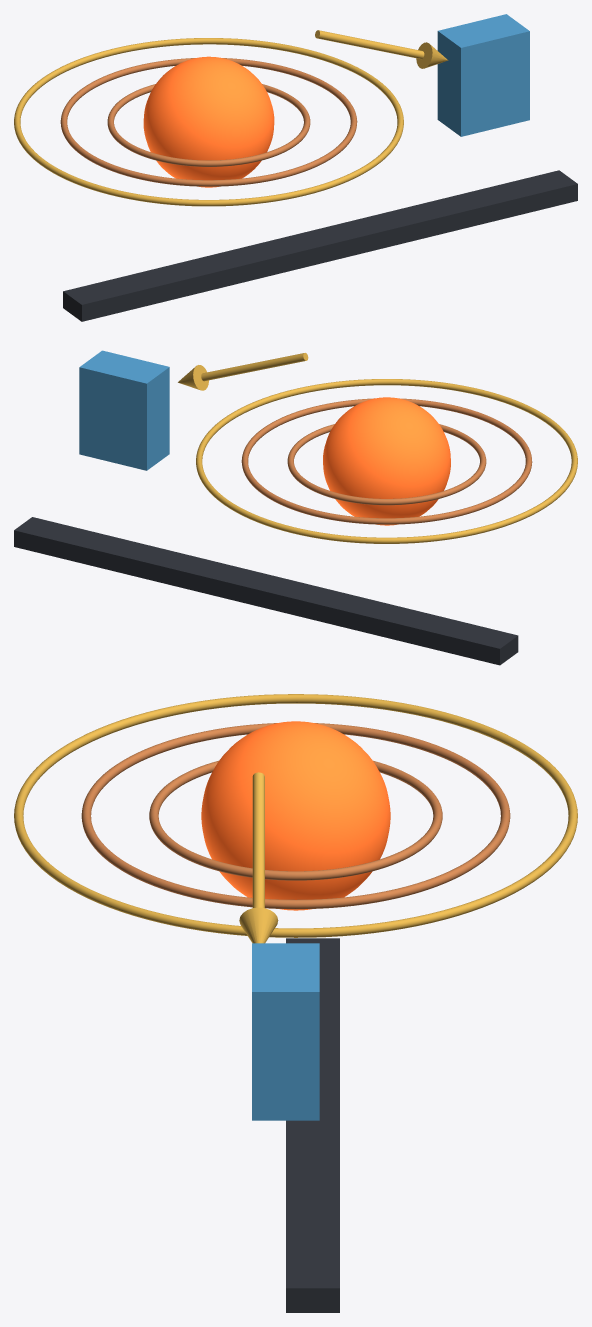
The model's file is physics-p1-radiation.glb.
The picture shows the model from 3 angles, top to bottom: view 1: azimuth 30°, elevation 25°; view 2: azimuth 150°, elevation 25°; view 3: azimuth 270°, elevation 25°; orthographic projection. The views are drawn at different scales.
Visible parts, largest first — view 1: thermal-bench-reference-base, glowing-heat-source-radiates, distant-object-warmed-without-touch, radiation-energy-wave-2, radiation-energy-wave-1, radiation-energy-wave-0, radiation-travels-through-space-shaft, radiation-travels-through-space-head; view 2: thermal-bench-reference-base, glowing-heat-source-radiates, distant-object-warmed-without-touch, radiation-energy-wave-2, radiation-energy-wave-1, radiation-energy-wave-0, radiation-travels-through-space-shaft, radiation-travels-through-space-head; view 3: glowing-heat-source-radiates, thermal-bench-reference-base, radiation-energy-wave-2, distant-object-warmed-without-touch, radiation-energy-wave-1, radiation-energy-wave-0, radiation-travels-through-space-shaft, radiation-travels-through-space-head.
Boxes of the visible parts, left/top/right/bottom form: thermal-bench-reference-base: left=63, top=170, right=577, bottom=321; glowing-heat-source-radiates: left=143, top=56, right=274, bottom=187; distant-object-warmed-without-touch: left=437, top=14, right=529, bottom=136; radiation-energy-wave-2: left=14, top=38, right=403, bottom=206; radiation-energy-wave-1: left=60, top=58, right=357, bottom=186; radiation-energy-wave-0: left=107, top=84, right=310, bottom=166; radiation-travels-through-space-shaft: left=315, top=30, right=424, bottom=59; radiation-travels-through-space-head: left=416, top=42, right=448, bottom=68; thermal-bench-reference-base: left=14, top=517, right=518, bottom=665; glowing-heat-source-radiates: left=323, top=397, right=450, bottom=525; distant-object-warmed-without-touch: left=79, top=350, right=169, bottom=470; radiation-energy-wave-2: left=196, top=379, right=577, bottom=543; radiation-energy-wave-1: left=241, top=398, right=532, bottom=524; radiation-energy-wave-0: left=287, top=424, right=486, bottom=505; radiation-travels-through-space-shaft: left=201, top=353, right=308, bottom=381; radiation-travels-through-space-head: left=178, top=365, right=208, bottom=390; glowing-heat-source-radiates: left=201, top=721, right=390, bottom=910; thermal-bench-reference-base: left=286, top=938, right=339, bottom=1312; radiation-energy-wave-2: left=14, top=694, right=577, bottom=937; distant-object-warmed-without-touch: left=252, top=943, right=319, bottom=1120; radiation-energy-wave-1: left=81, top=723, right=510, bottom=909; radiation-energy-wave-0: left=149, top=760, right=442, bottom=880; radiation-travels-through-space-shaft: left=252, top=772, right=264, bottom=907; radiation-travels-through-space-head: left=239, top=907, right=278, bottom=943.
Size of what is drawn, in the model's own units: 2.64 by 1.15 by 1.67.
